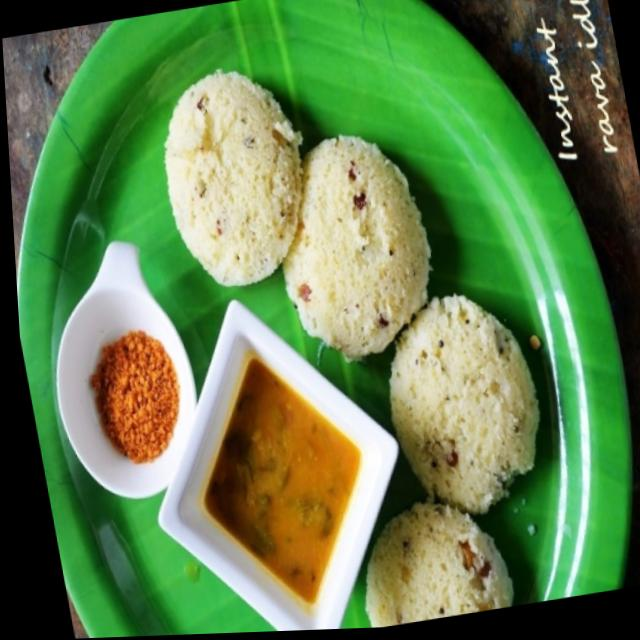IDLI: (164, 70, 538, 628)
PODI: (90, 330, 178, 463)
SAMBAR: (204, 355, 359, 604)
